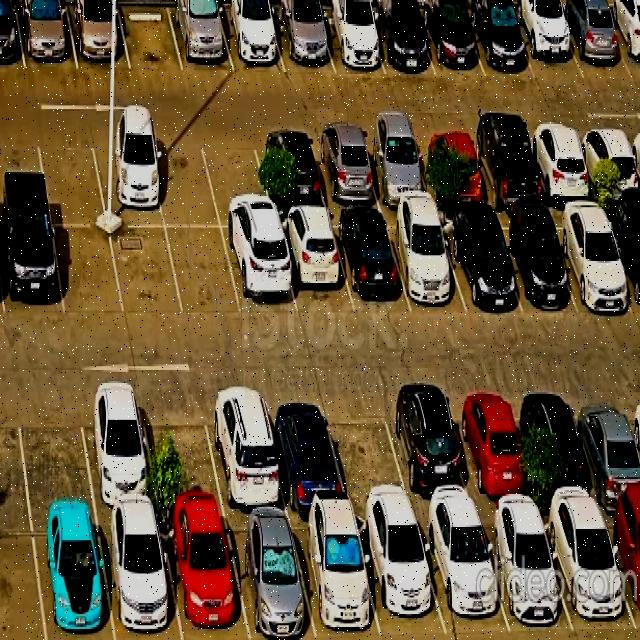empty: (323, 391, 413, 512), (140, 388, 225, 513), (15, 387, 94, 512), (199, 132, 274, 228), (149, 133, 220, 227), (110, 228, 183, 318), (36, 132, 107, 224), (166, 229, 241, 316), (53, 226, 124, 317), (118, 3, 183, 71)
occupied: (540, 510, 638, 640), (381, 389, 477, 513), (223, 515, 317, 640), (289, 514, 382, 640), (478, 513, 573, 634), (354, 514, 447, 637), (416, 514, 510, 635), (159, 515, 249, 640), (446, 388, 535, 512), (202, 386, 288, 512), (97, 513, 182, 640), (31, 514, 114, 640), (518, 387, 601, 511), (263, 390, 348, 511), (77, 386, 159, 511), (548, 209, 634, 310), (570, 387, 640, 509), (490, 215, 576, 312), (438, 216, 522, 314), (384, 215, 467, 313), (276, 214, 354, 316), (331, 214, 411, 312), (90, 133, 165, 227), (222, 230, 297, 315), (467, 130, 545, 209), (0, 221, 64, 317), (253, 132, 327, 211), (413, 131, 488, 207), (309, 132, 382, 209), (555, 7, 632, 79), (510, 7, 584, 81), (359, 131, 432, 206), (525, 128, 596, 203), (465, 4, 535, 78), (417, 4, 485, 77), (601, 507, 640, 633), (575, 127, 640, 202), (366, 7, 436, 76), (217, 5, 285, 72), (168, 4, 234, 73), (317, 9, 385, 74), (66, 4, 130, 69), (602, 208, 640, 315), (15, 4, 77, 69), (271, 9, 334, 72), (604, 8, 640, 79)
